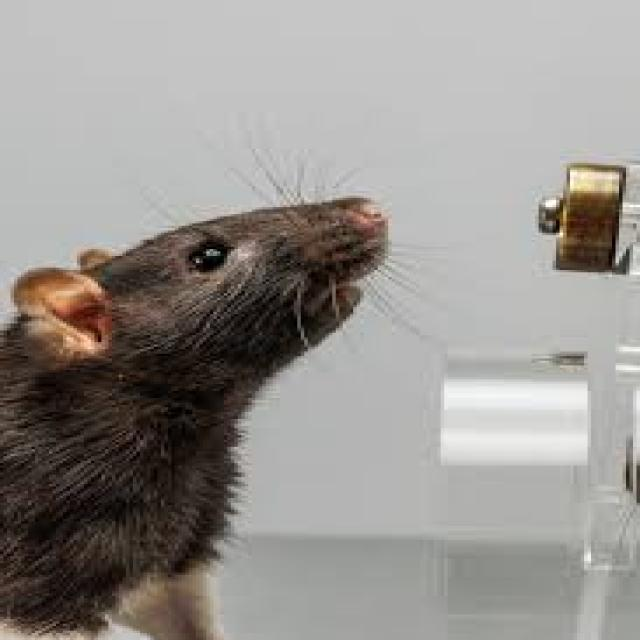rat: (0, 182, 402, 638)
